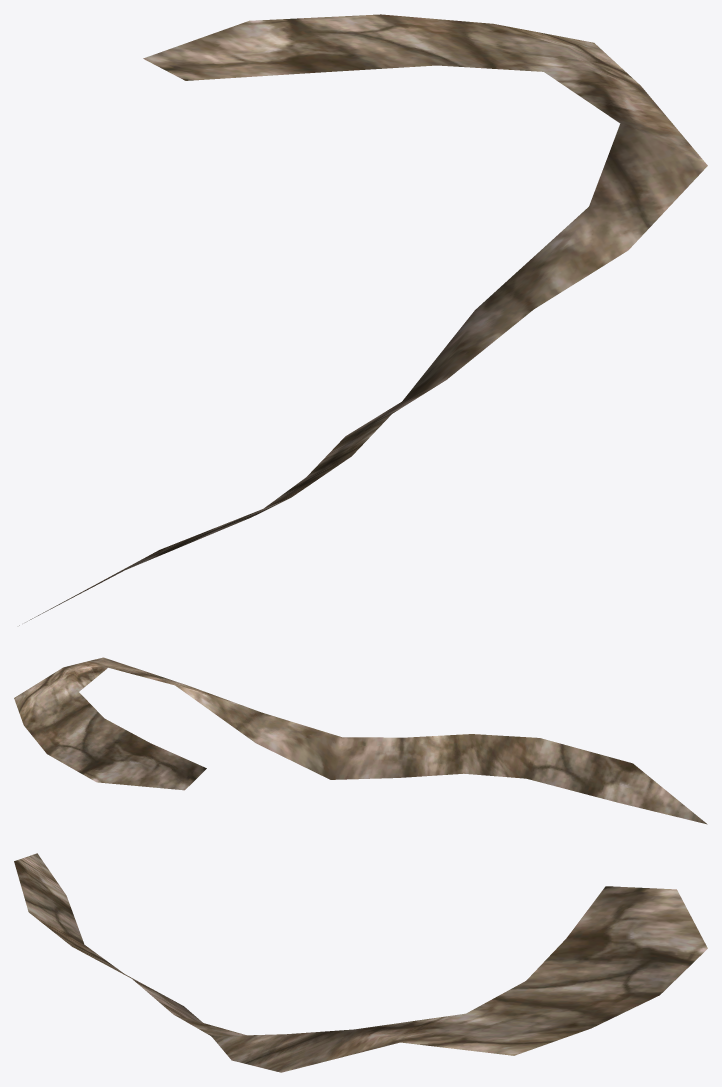
The model's file is EKH_THRONE_PS_TH_GR_OBJECT54.fbx.
The picture shows the model from 3 angles, top to bottom: view 1: azimuth 30°, elevation 25°; view 2: azimuth 150°, elevation 25°; view 3: azimuth 270°, elevation 25°; orthographic projection. The views are drawn at different scales.
Parts seen in each view (by area): view 1: EKH_THRONE_PS_TH_GR_OBJECT54; view 2: EKH_THRONE_PS_TH_GR_OBJECT54; view 3: EKH_THRONE_PS_TH_GR_OBJECT54.
Boxes of the visible parts, x1,y1,x2,y2 form: EKH_THRONE_PS_TH_GR_OBJECT54: (19, 14, 707, 625); EKH_THRONE_PS_TH_GR_OBJECT54: (14, 657, 707, 824); EKH_THRONE_PS_TH_GR_OBJECT54: (14, 853, 707, 1072).
Bounding box in the file's own units: 125893 × 28584 × 98880.
Materials: 1 (1 with a texture image).
